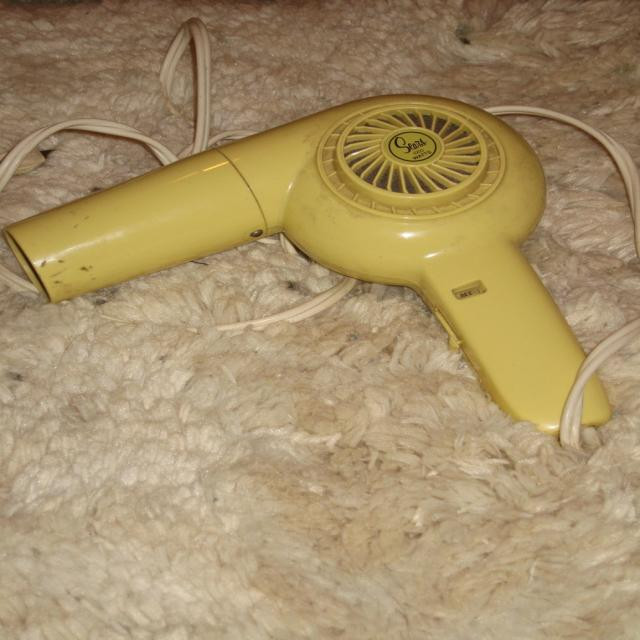dryer: (4, 82, 624, 460)
